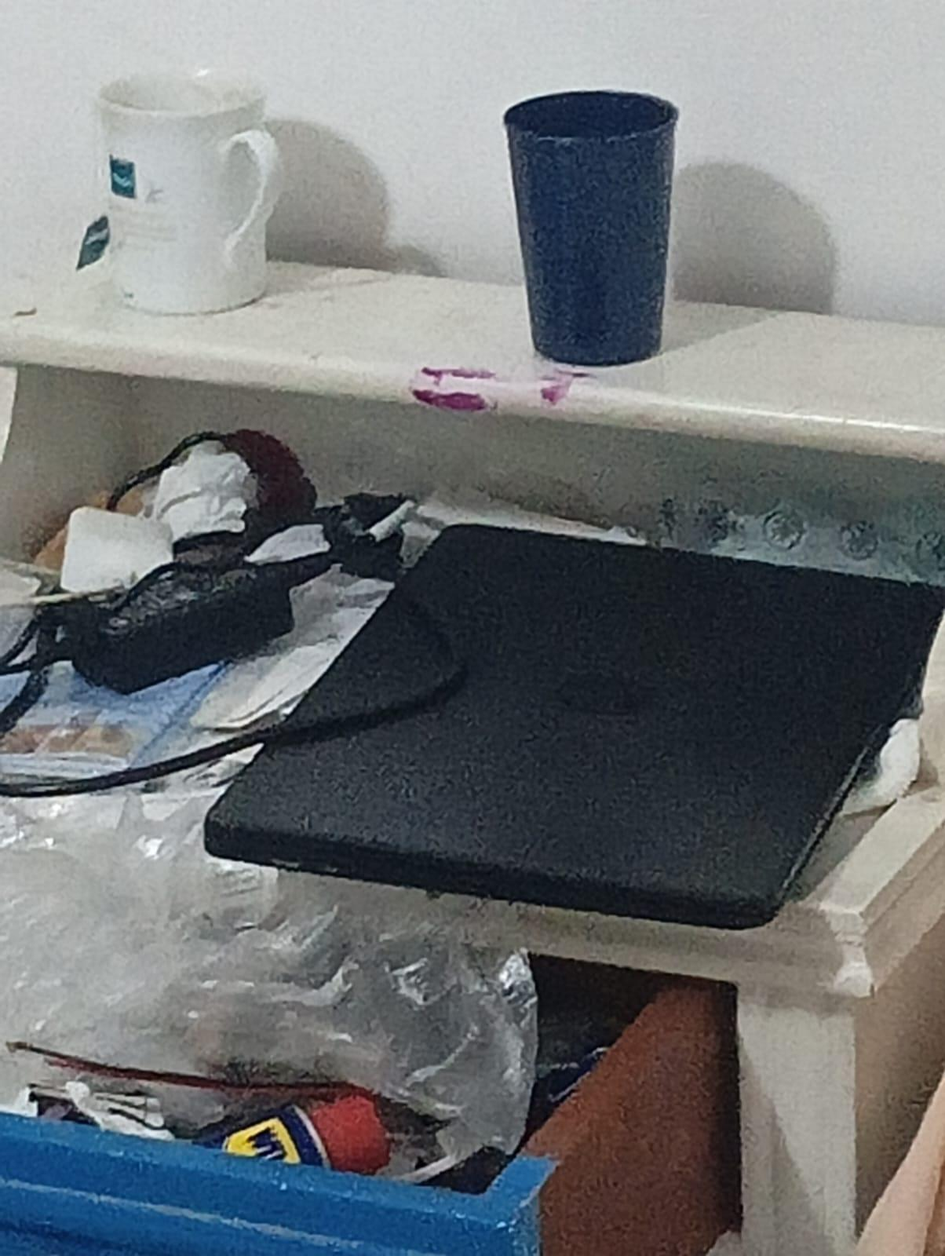cup: (505, 92, 677, 365), (98, 71, 281, 313), (103, 76, 253, 113), (519, 100, 664, 133)
